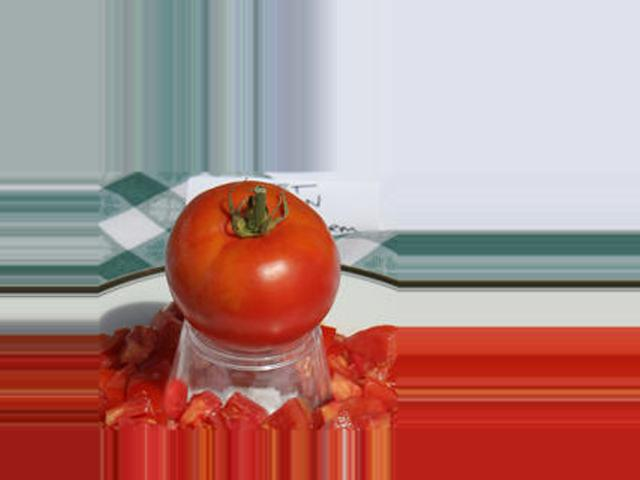tomato: (164, 179, 342, 347)
